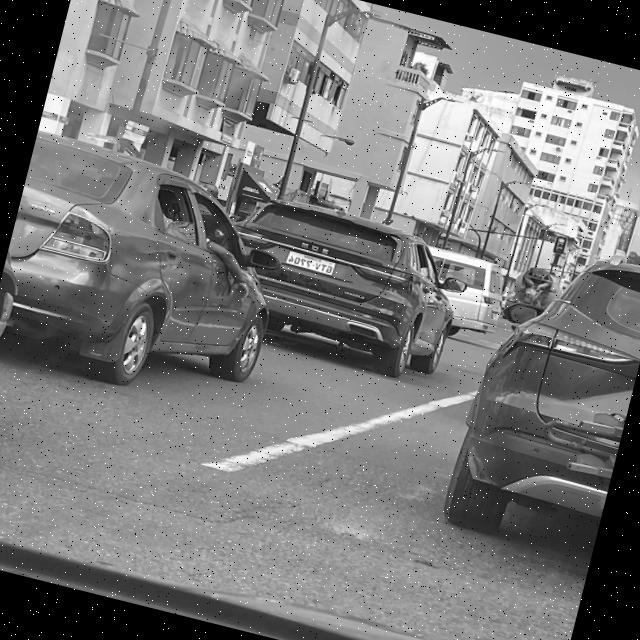Placa: (285, 251, 334, 274)
